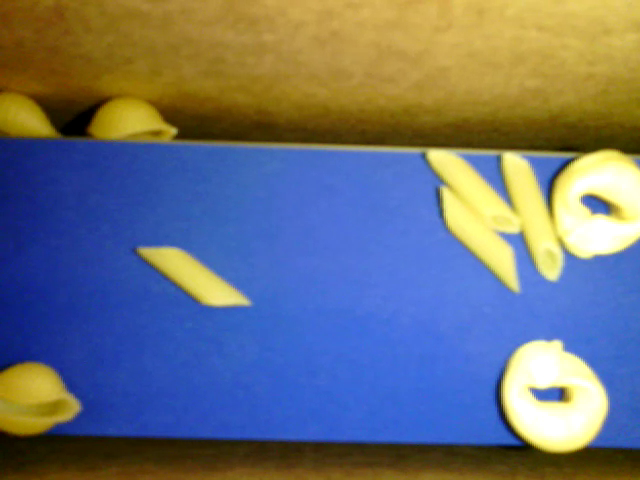penne: (420, 148, 522, 238), (439, 183, 518, 291), (501, 151, 565, 283), (135, 247, 250, 306)
shell: (1, 359, 85, 439), (84, 93, 177, 144), (1, 92, 63, 140)
tortellini: (496, 336, 611, 454), (551, 147, 639, 261)
